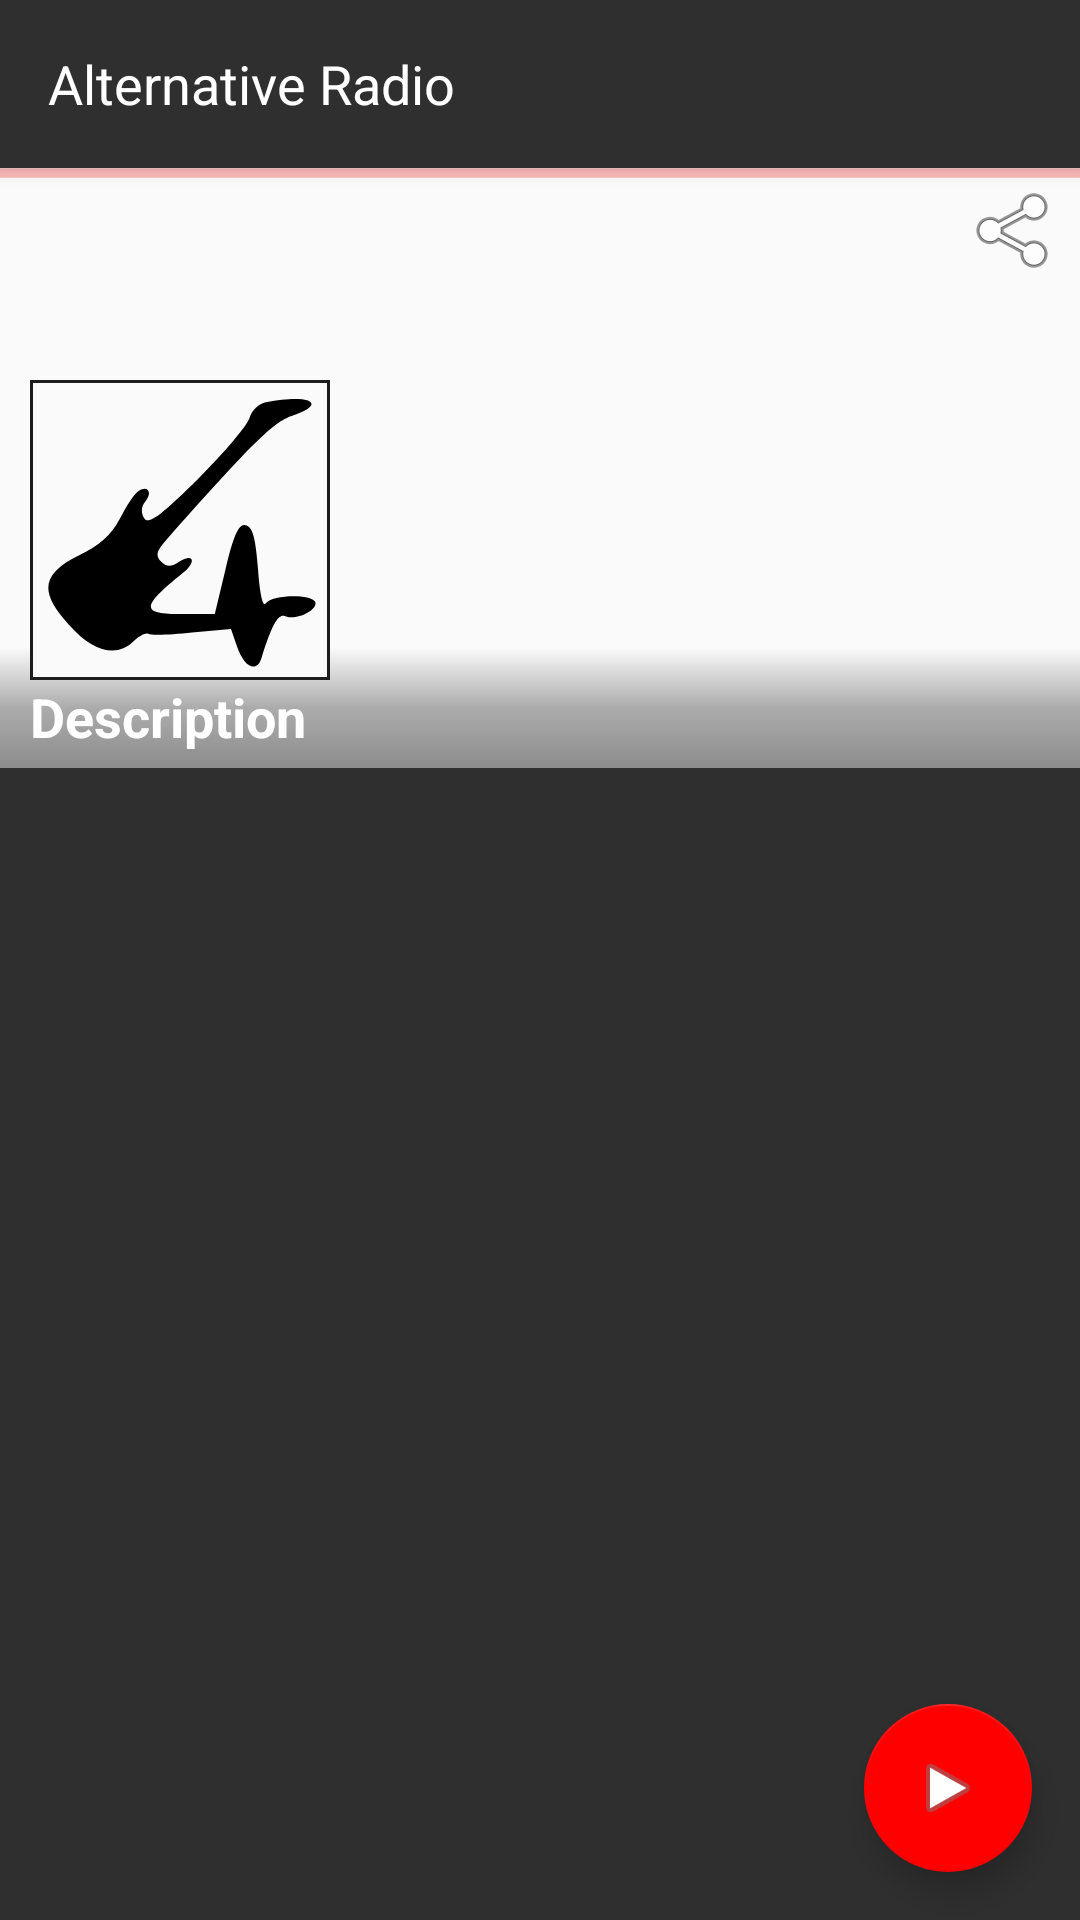

Icons on this 1080w x 1920h Android screen, each with its box as [x1,y1,x2,y2]:
play: [864,1704,1032,1872]
share: [976,193,1048,268]
